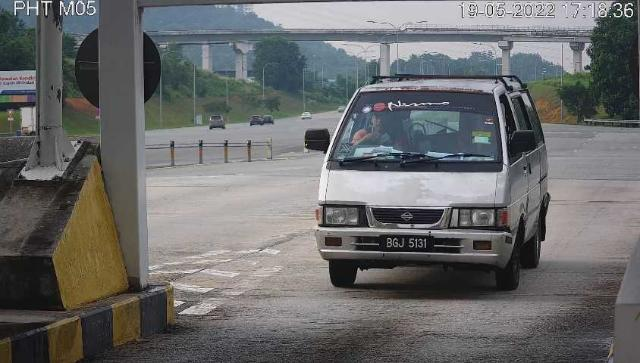License_Plate: (379, 234, 436, 256)
van: (317, 76, 549, 292)
